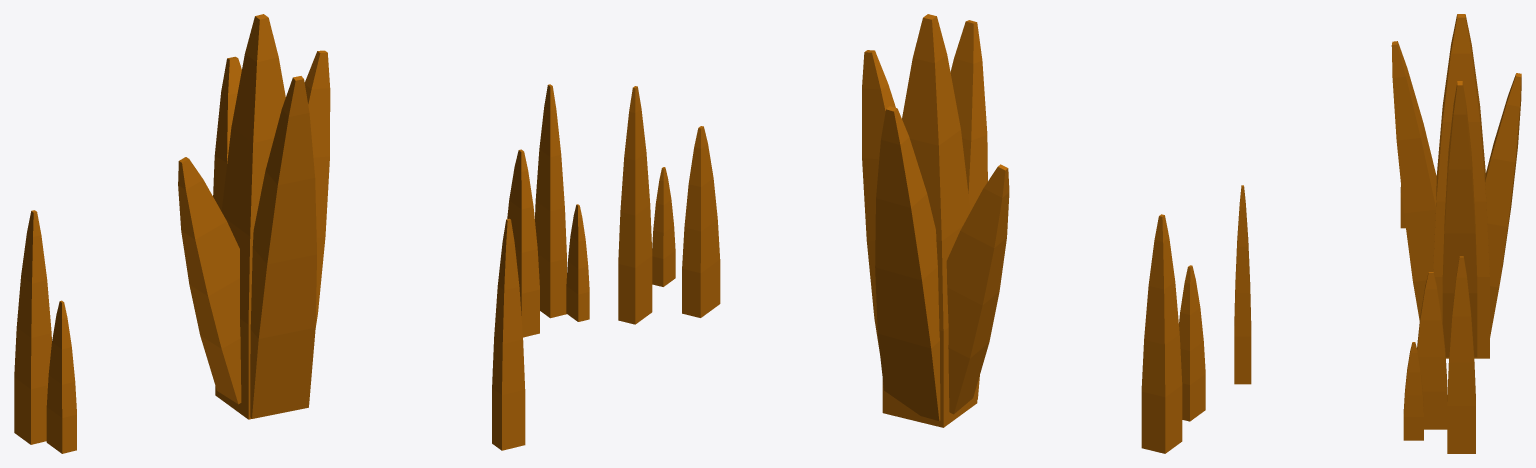
Rendered from grass_patch.obj.
3 views of the same model, side by side, from view 1: azimuth 30°, elevation 25°; view 2: azimuth 150°, elevation 25°; view 3: azimuth 270°, elevation 25° (orthographic). The views are drawn at different scales.
Parts seen in each view (by area): view 1: grass; view 2: grass; view 3: grass.
Part boxes in pixels (x1,y1,x2,y2): grass: (14,14,589,453); grass: (618,14,1205,453); grass: (1234,14,1521,453).
Size of the model in its own units: 0.4585 by 0.3134 by 0.2473.
